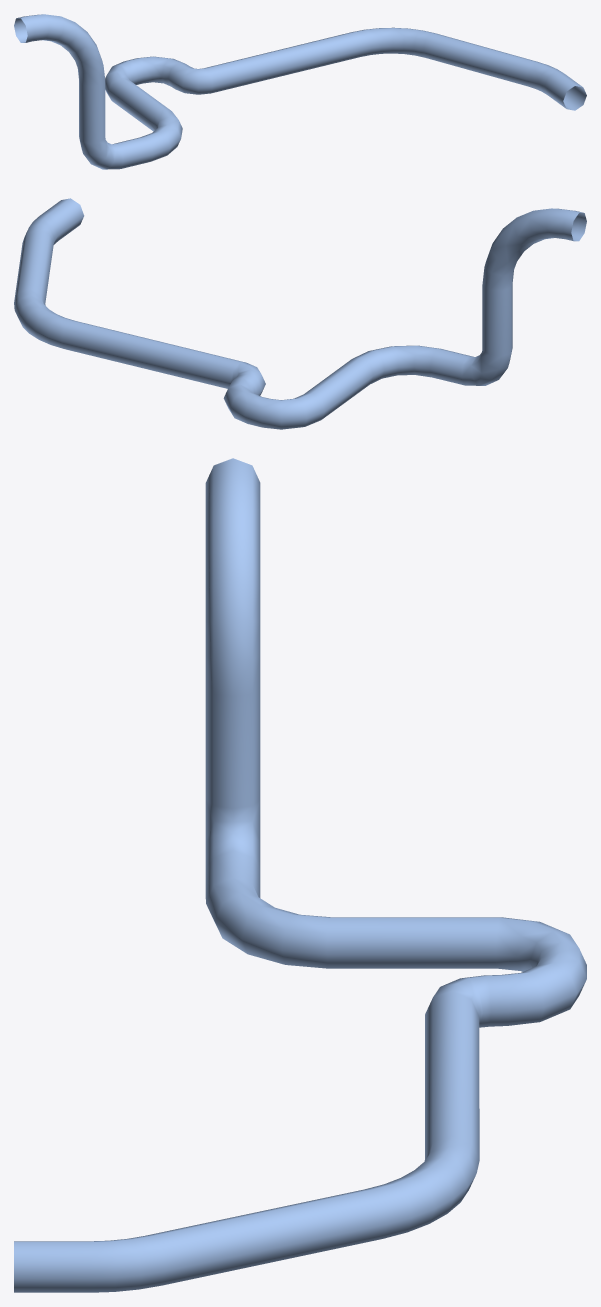
The model's file is PipeComplexSmall_B_01.fbx.
3 renders of one model, top to bottom at view 1: azimuth 30°, elevation 25°; view 2: azimuth 150°, elevation 25°; view 3: azimuth 270°, elevation 25°, orthographic. The views are drawn at different scales.
Parts seen in each view (by area): view 1: PipeComplexSmall_B_01.001; view 2: PipeComplexSmall_B_01.001; view 3: PipeComplexSmall_B_01.001.
Part boxes in pixels (<box>): PipeComplexSmall_B_01.001: <box>14,14,586,169</box>; PipeComplexSmall_B_01.001: <box>14,198,586,429</box>; PipeComplexSmall_B_01.001: <box>14,458,586,1292</box>.
Bounding box in the file's own units: 2.15 × 0.7 × 1.05.
